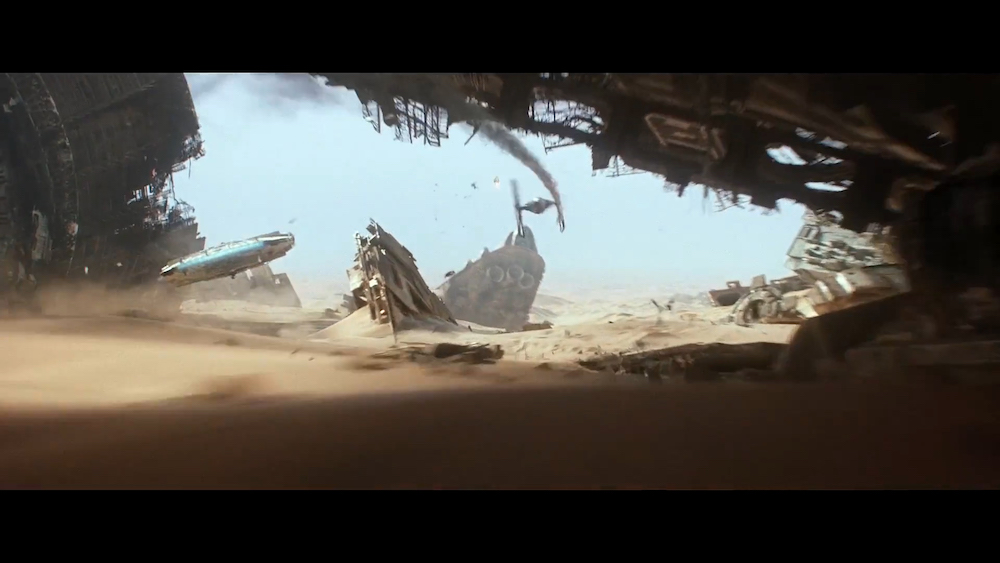Millennium Falcon: (159, 229, 298, 290)
Tie Fighter: (509, 173, 567, 241)
